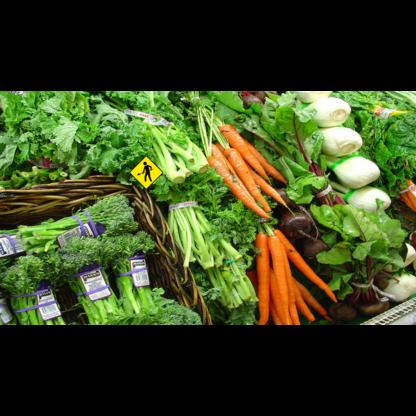A-24: (129, 155, 163, 190)
